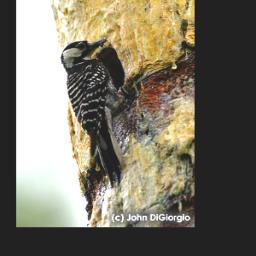Woodpecker: (60, 38, 139, 191)
